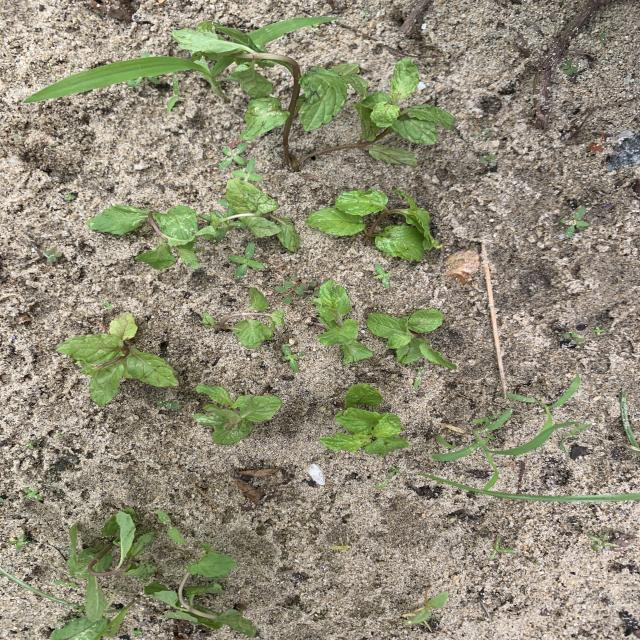crop: (173, 21, 454, 171), (300, 57, 454, 166), (58, 313, 178, 405), (145, 543, 255, 636), (307, 190, 440, 259), (200, 176, 298, 251), (88, 204, 200, 267), (320, 384, 409, 455), (68, 509, 155, 581), (193, 385, 282, 443), (367, 310, 455, 368), (202, 288, 283, 347), (316, 280, 371, 363)
weed: (419, 376, 640, 502), (23, 56, 225, 103), (247, 17, 335, 51), (402, 589, 447, 631), (229, 243, 263, 276), (157, 510, 185, 542), (559, 207, 587, 237), (219, 142, 247, 167), (275, 278, 315, 295), (489, 536, 515, 559), (281, 344, 303, 371), (232, 159, 261, 179), (589, 531, 617, 550), (166, 76, 178, 113), (374, 264, 391, 287), (8, 533, 31, 549), (507, 394, 535, 403), (45, 248, 62, 262), (562, 60, 578, 74), (373, 476, 392, 487), (53, 579, 79, 587), (157, 400, 179, 409), (24, 488, 41, 499), (480, 154, 497, 165), (414, 368, 421, 387), (388, 466, 399, 476), (102, 301, 111, 310), (26, 442, 35, 447), (66, 194, 74, 199)
